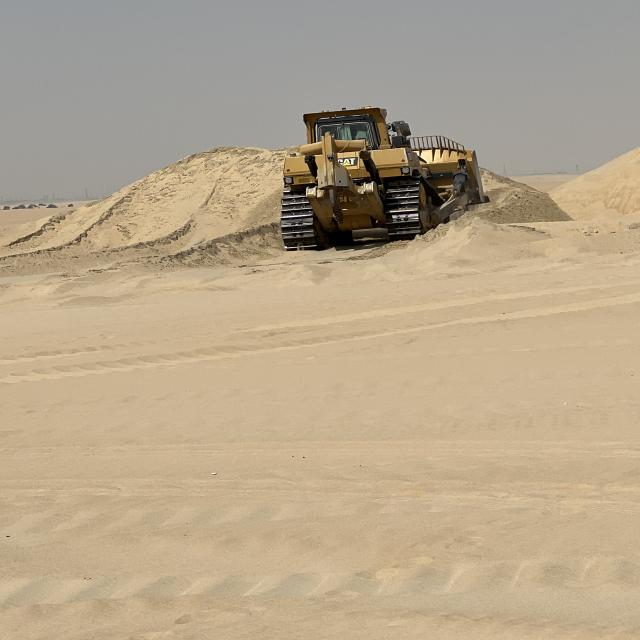buldozerpayloadergrader: (274, 101, 486, 266)
